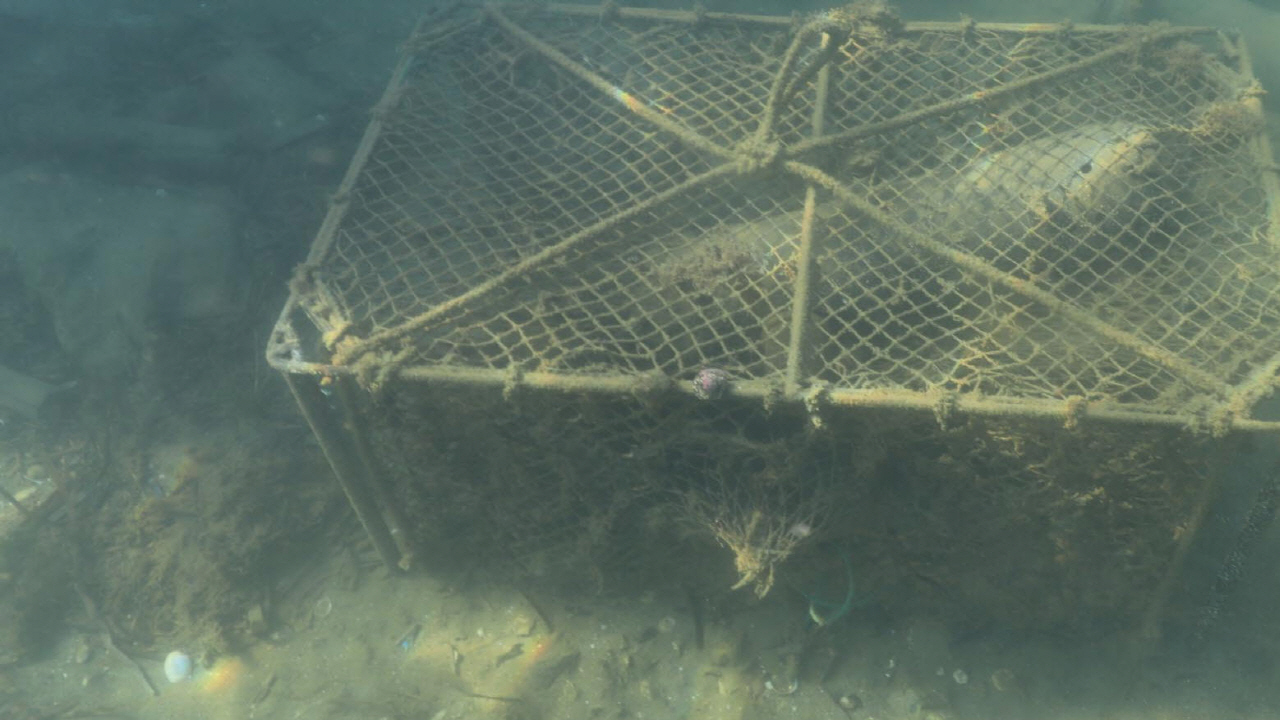rectangular fish trap: (264, 0, 1280, 640)
